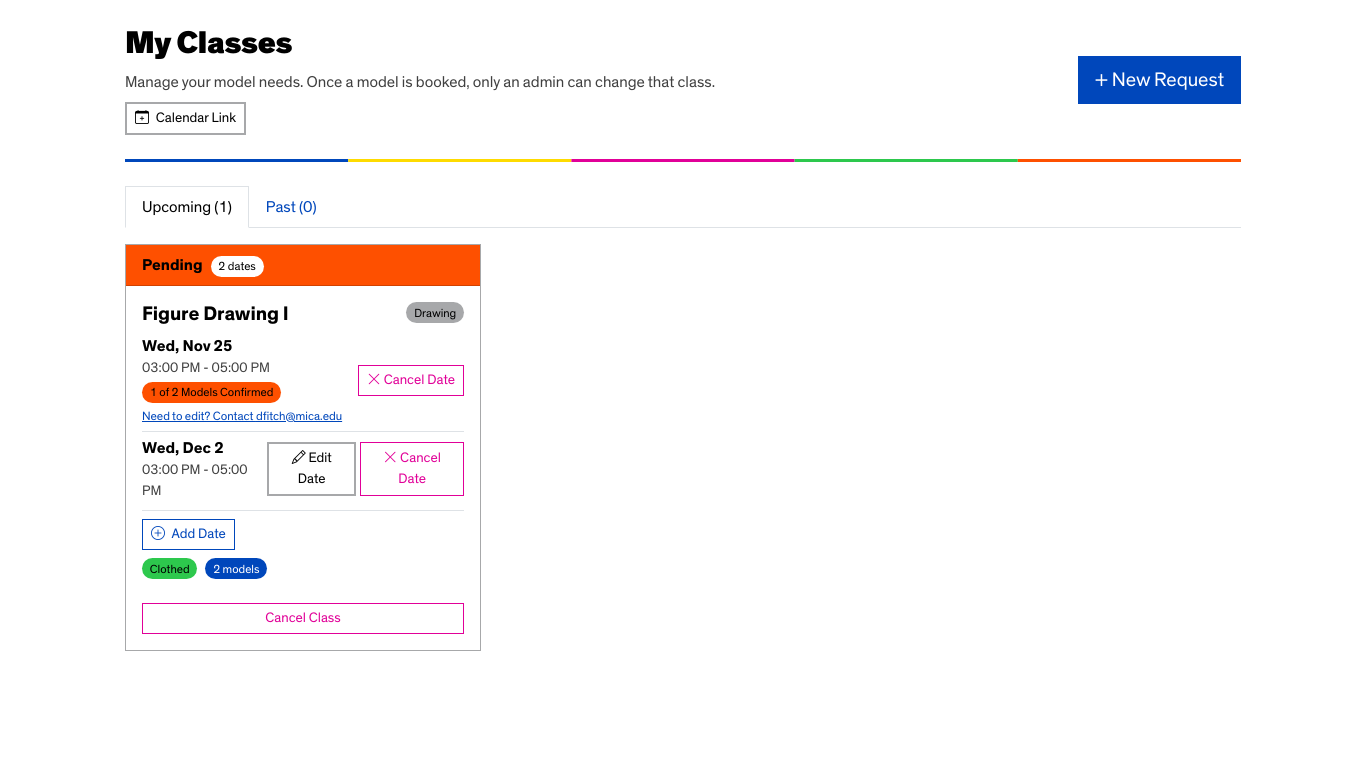
it: FacultyDashboard › labels the New Request form, including the remove button on each date
Step 1. Click the button "+ New Request" → (1160, 80), box x1=1078 y1=56 x2=1241 y2=104
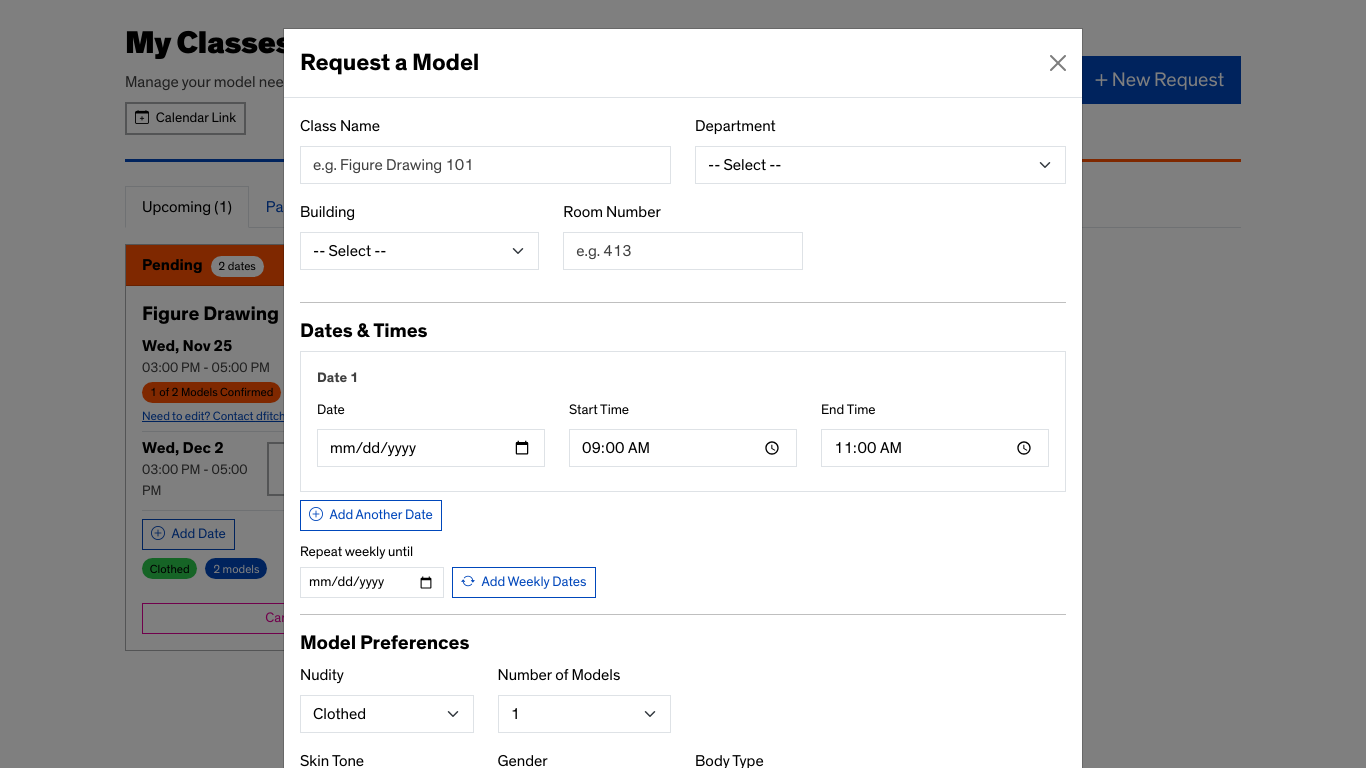
Expected: the field labelled "Class Name" is shown, x1=300 y1=146 x2=671 y2=184
Expected: the dropdown labelled "Department" is shown, x1=695 y1=146 x2=1066 y2=184
Expected: the dropdown labelled "Building" is shown, x1=300 y1=232 x2=539 y2=270
Step 2. Click the button "Add Another Date" → (371, 516), box x1=300 y1=500 x2=442 y2=531
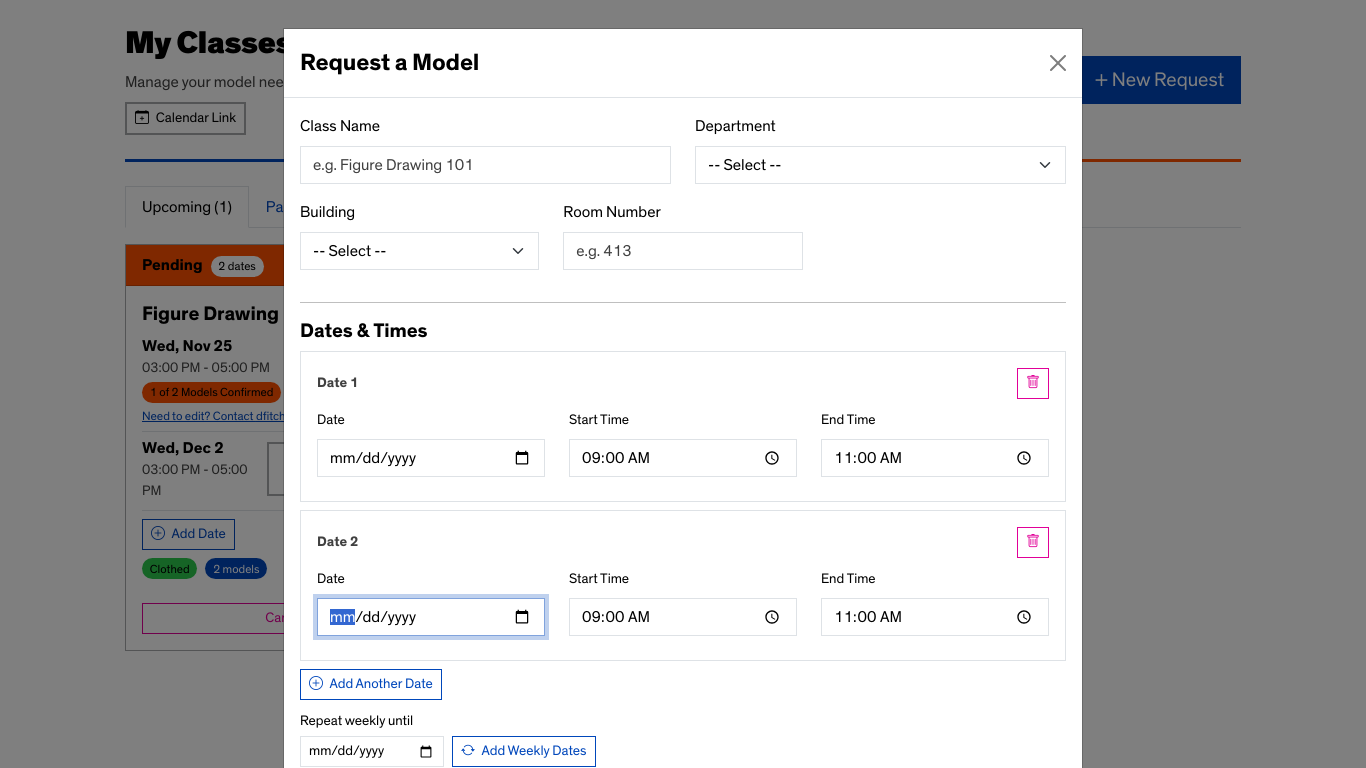
Expected: the element "Date 2" is shown, x1=300 y1=510 x2=1066 y2=661
Expected: the button named "Remove date 2" is shown, x1=1017 y1=527 x2=1049 y2=558
